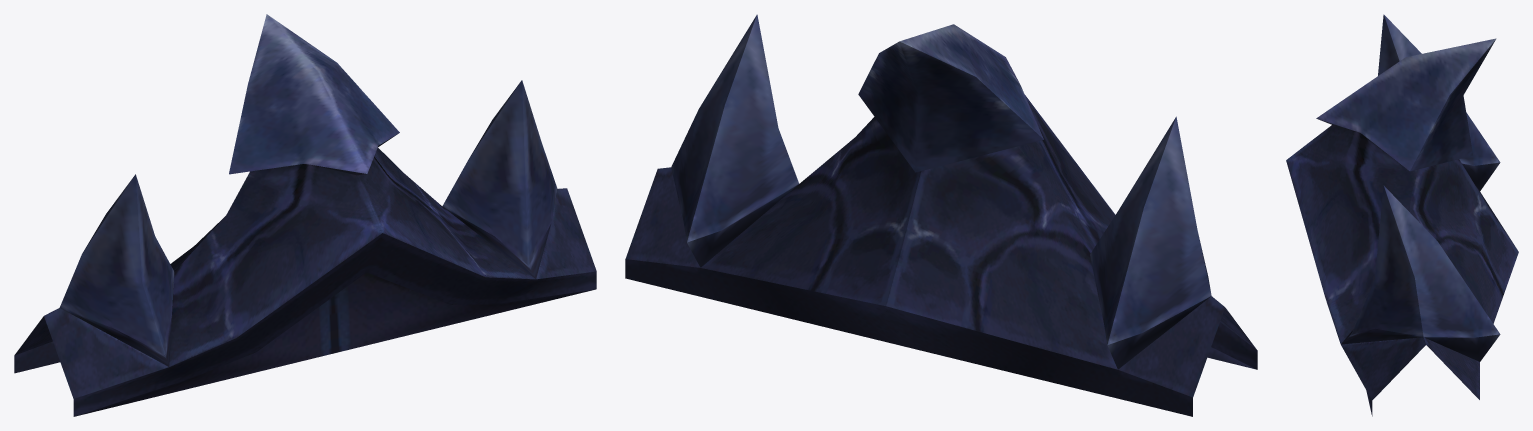
The model's file is palace_cap_straight_01.fbx.
3 renders of one model, left to right at view 1: azimuth 30°, elevation 25°; view 2: azimuth 150°, elevation 25°; view 3: azimuth 270°, elevation 25°, orthographic. The views are drawn at different scales.
Visible parts, largest first — view 1: palace_tileset/palace_railing01_mat; view 2: palace_tileset/palace_railing01_mat; view 3: palace_tileset/palace_railing01_mat.
Part boxes in pixels (x1,y1,x2,y2): palace_tileset/palace_railing01_mat: [14, 14, 596, 416]; palace_tileset/palace_railing01_mat: [625, 14, 1257, 416]; palace_tileset/palace_railing01_mat: [1286, 14, 1518, 416].
Bounding box in the file's own units: 4 × 2.11 × 1.7.
